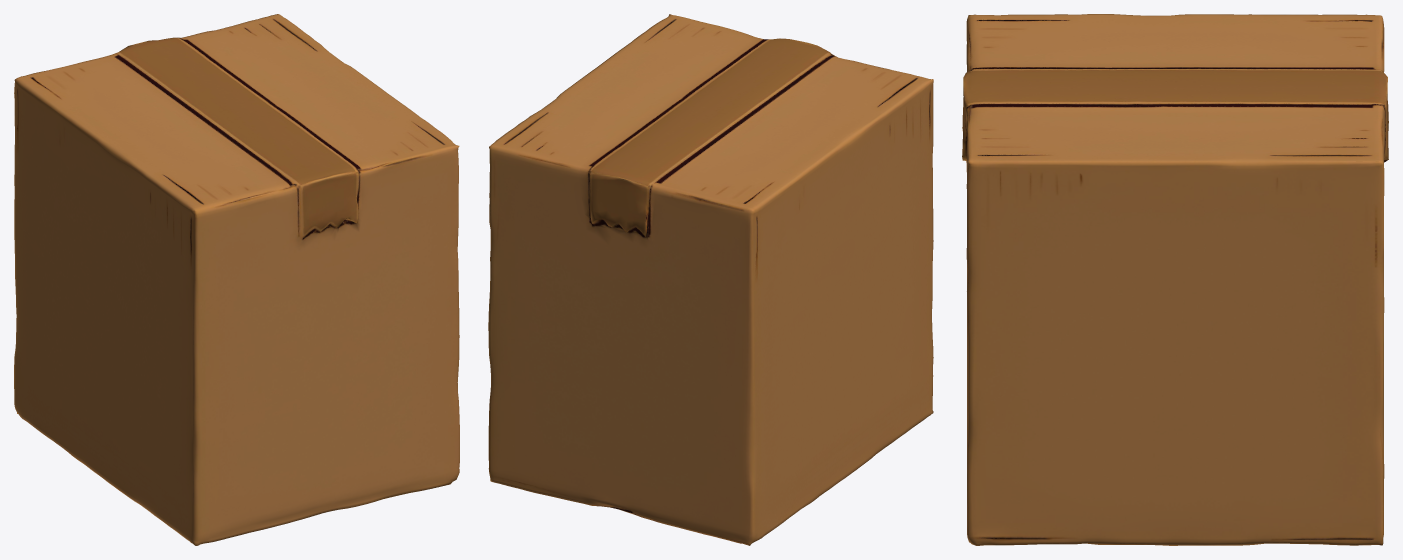
Rendered from cardboard+box+3d+model.fbx.
3 views of the same model, side by side, from view 1: azimuth 30°, elevation 25°; view 2: azimuth 150°, elevation 25°; view 3: azimuth 270°, elevation 25° (orthographic). The views are drawn at different scales.
Visible parts, largest first — view 1: tripo_node_e2e22b18; view 2: tripo_node_e2e22b18; view 3: tripo_node_e2e22b18.
Boxes of the visible parts, box(x1,y1,x2,y2) form: tripo_node_e2e22b18: box(14, 14, 459, 545); tripo_node_e2e22b18: box(488, 14, 933, 545); tripo_node_e2e22b18: box(962, 14, 1388, 545).
Bounding box in the file's own units: 0.8198 × 1 × 0.9927.
Materials: 1 (1 with a texture image).
